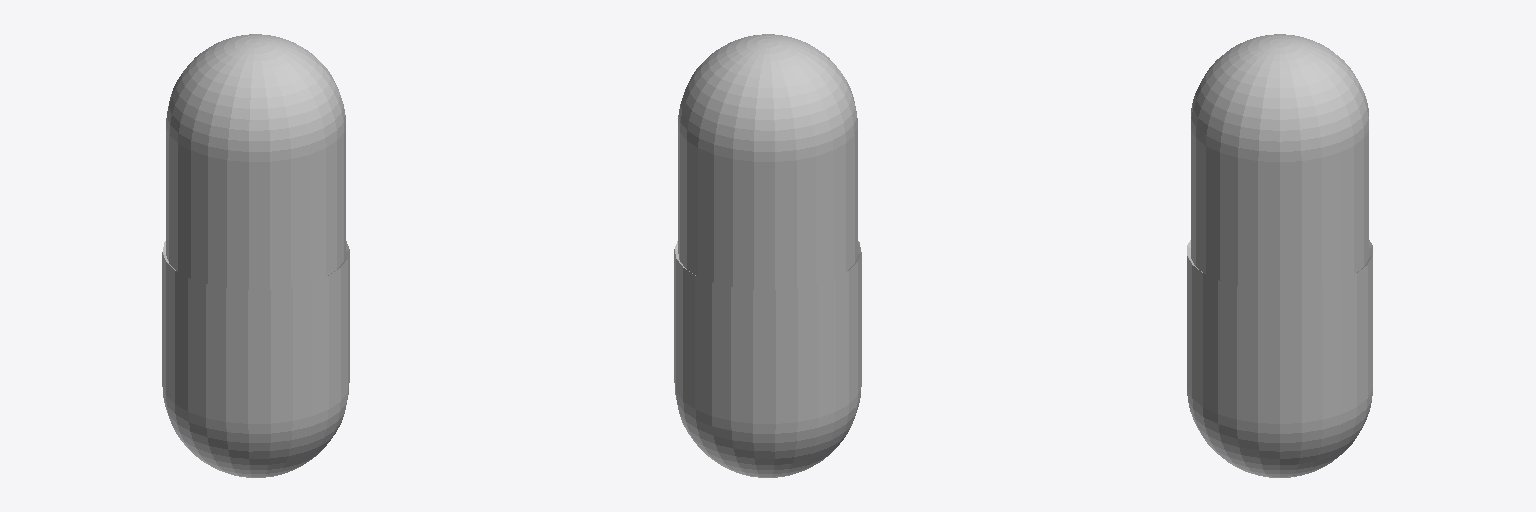
File: pill2.obj
3 renders of one model, left to right at view 1: azimuth 30°, elevation 25°; view 2: azimuth 150°, elevation 25°; view 3: azimuth 270°, elevation 25°, orthographic.
Parts seen in each view (by area): view 1: pill; view 2: pill; view 3: pill.
Boxes of the visible parts, <box> form: pill: <box>162,34,349,477</box>; pill: <box>674,34,861,477</box>; pill: <box>1187,34,1372,477</box>.
Bounding box in the file's own units: 0.9453 × 2.38 × 0.9384.